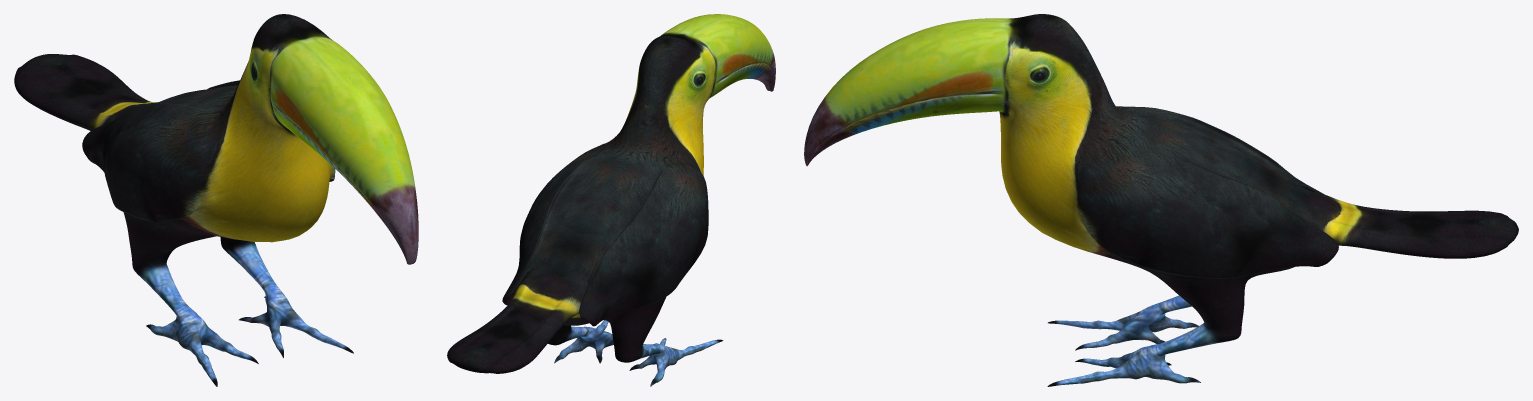
File: toucan.obj
3 views of the same model, side by side, from view 1: azimuth 30°, elevation 25°; view 2: azimuth 150°, elevation 25°; view 3: azimuth 270°, elevation 25° (orthographic). The views are drawn at different scales.
Parts seen in each view (by area): view 1: 12260_Bird_Toucan_v3_l2; view 2: 12260_Bird_Toucan_v3_l2; view 3: 12260_Bird_Toucan_v3_l2.
Part boxes in pixels (bbox=[...]): 12260_Bird_Toucan_v3_l2: bbox=[14, 14, 418, 386]; 12260_Bird_Toucan_v3_l2: bbox=[447, 14, 775, 386]; 12260_Bird_Toucan_v3_l2: bbox=[804, 14, 1518, 386].
Size of the model in its own units: 1.28 by 2.3 by 4.38.
